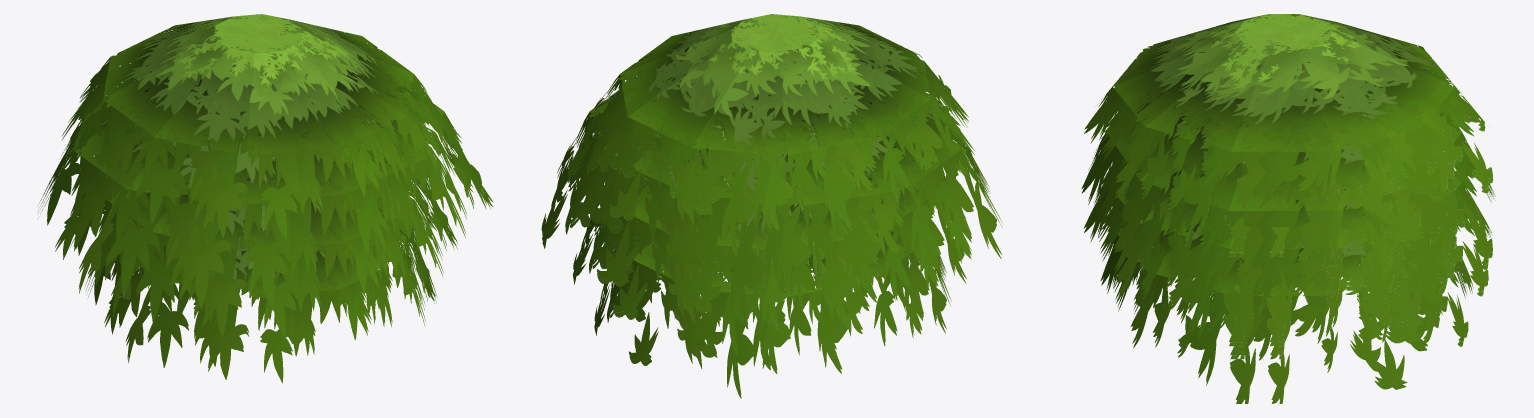
The model's file is bush cute fbx.fbx.
3 renders of one model, left to right at view 1: azimuth 30°, elevation 25°; view 2: azimuth 150°, elevation 25°; view 3: azimuth 270°, elevation 25°, orthographic. The views are drawn at different scales.
Visible parts, largest first — view 1: Sphere004; view 2: Sphere004; view 3: Sphere004.
Boxes of the visible parts, bbox=[...] form: Sphere004: bbox=[37, 14, 493, 383]; Sphere004: bbox=[541, 14, 1002, 398]; Sphere004: bbox=[1081, 14, 1495, 403].
Size of the model in its own units: 15.85 by 10.44 by 15.15.
